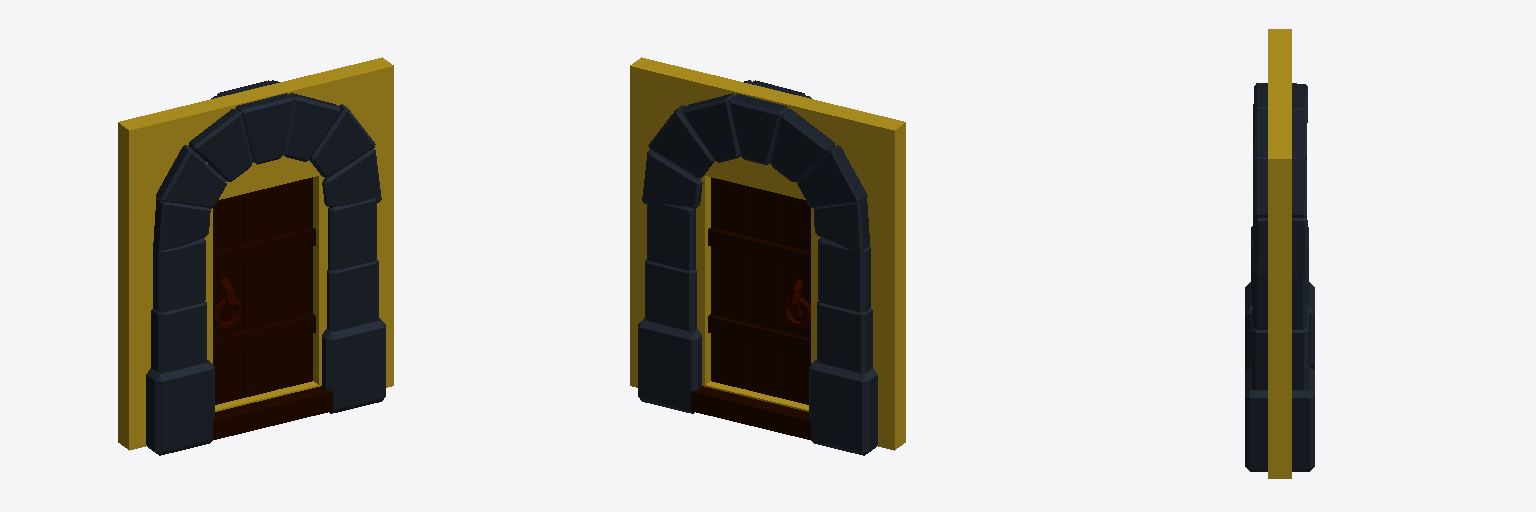
Rendered from House_wallDoor.obj.
3 renders of one model, left to right at view 1: azimuth 30°, elevation 25°; view 2: azimuth 150°, elevation 25°; view 3: azimuth 270°, elevation 25°, orthographic.
Parts seen in each view (by area): view 1: Door_Cube.007; view 2: Door_Cube.007; view 3: Door_Cube.007.
Boxes of the visible parts, <box> form: Door_Cube.007: <box>118,57,393,455</box>; Door_Cube.007: <box>630,57,905,455</box>; Door_Cube.007: <box>1245,29,1314,478</box>.
Size of the model in its own units: 2.6 by 3.04 by 0.5893.